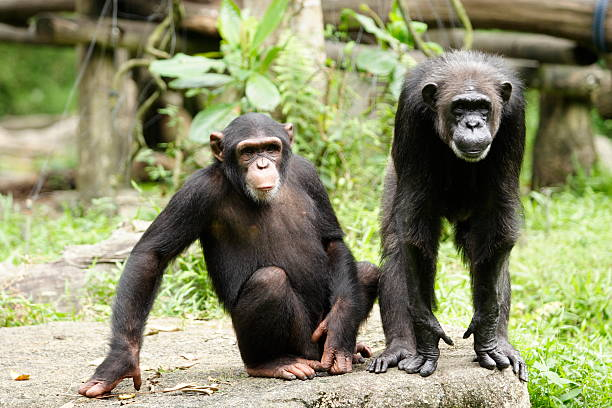chimpanzee: (397, 45, 518, 184), (194, 106, 306, 220)
